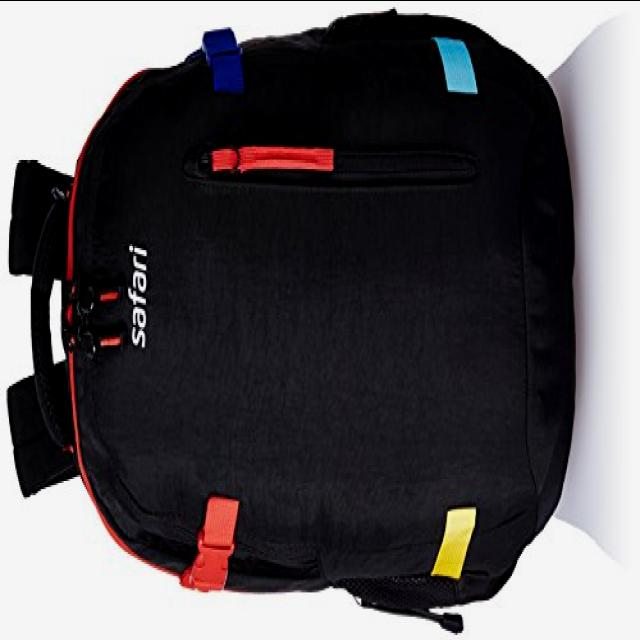backpack: (6, 9, 577, 635)
